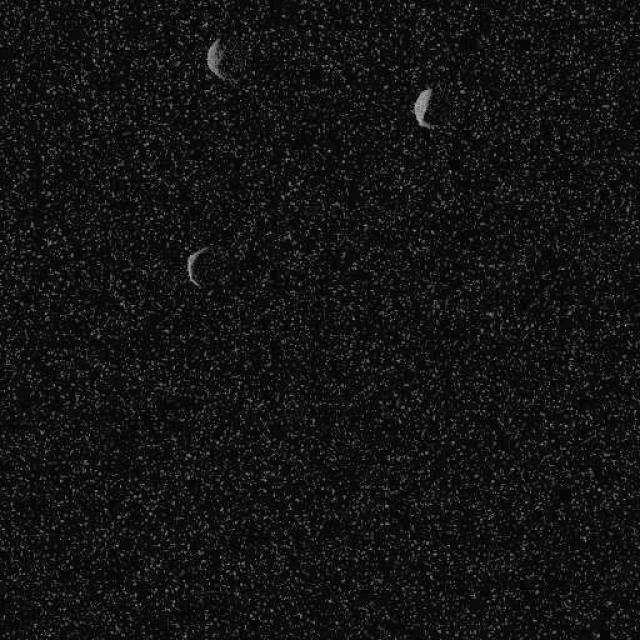D2: (205, 35, 236, 84), (185, 244, 213, 288), (411, 85, 435, 130)
